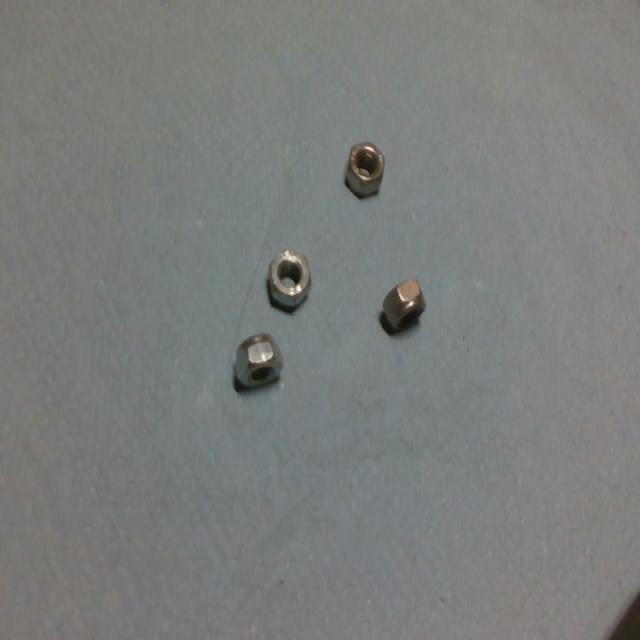Nut: (218, 333, 296, 393), (263, 242, 317, 315), (376, 272, 435, 338), (337, 135, 395, 202)
